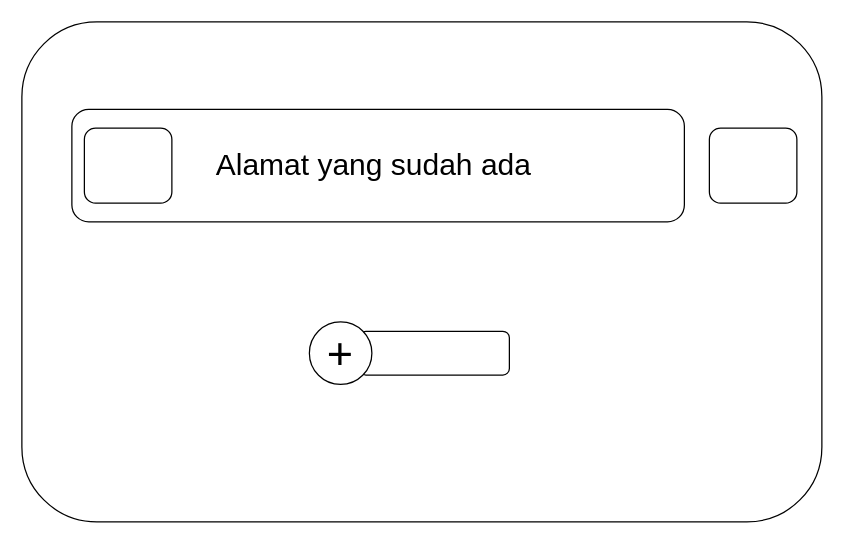
This 844x544 diagram has some shape labels left out. The shapes that lost their labels are listed below. From the top down, each one's box as (x1, y1, x2, y2) in pixels, then its label:
(708, 127, 797, 203): Hapus
(358, 330, 509, 375): Tambah Alamat
